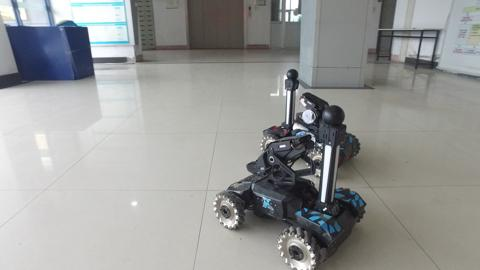chariot: (208, 106, 363, 269), (255, 63, 361, 182)
